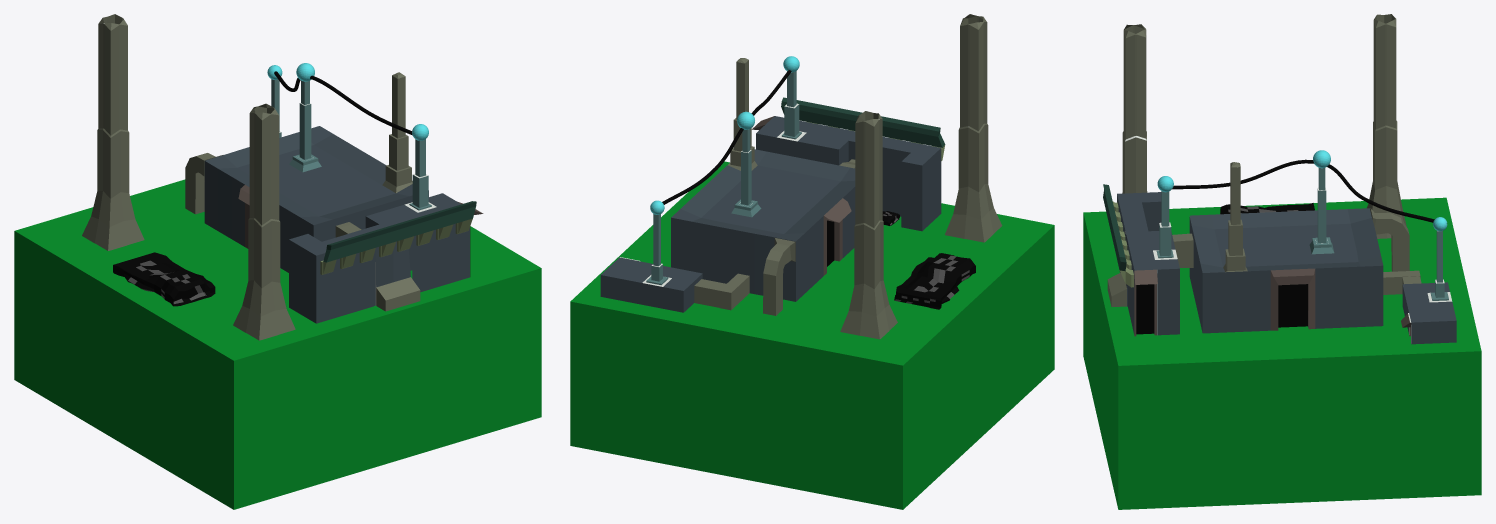
File: Coal Powerplant.fbx
The picture shows the model from 3 angles, left to right: view 1: azimuth 30°, elevation 25°; view 2: azimuth 150°, elevation 25°; view 3: azimuth 270°, elevation 25°; orthographic projection. The views are drawn at different scales.
Parts seen in each view (by area): view 1: Cube; view 2: Cube; view 3: Cube.
Boxes of the visible parts, left/top/right/bottom form: Cube: left=14, top=14, right=541, bottom=509; Cube: left=570, top=14, right=1054, bottom=509; Cube: left=1083, top=14, right=1481, bottom=509.
Bounding box in the file's own units: 218 × 215 × 218.
